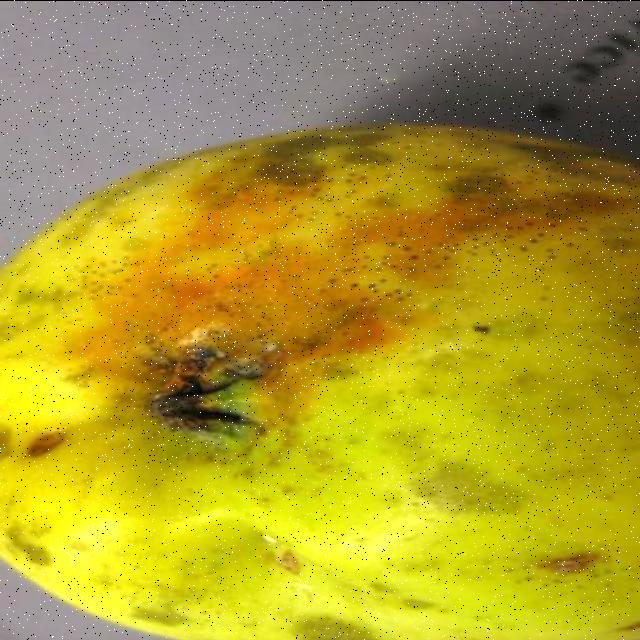BLOTCH: (19, 88, 637, 640)
